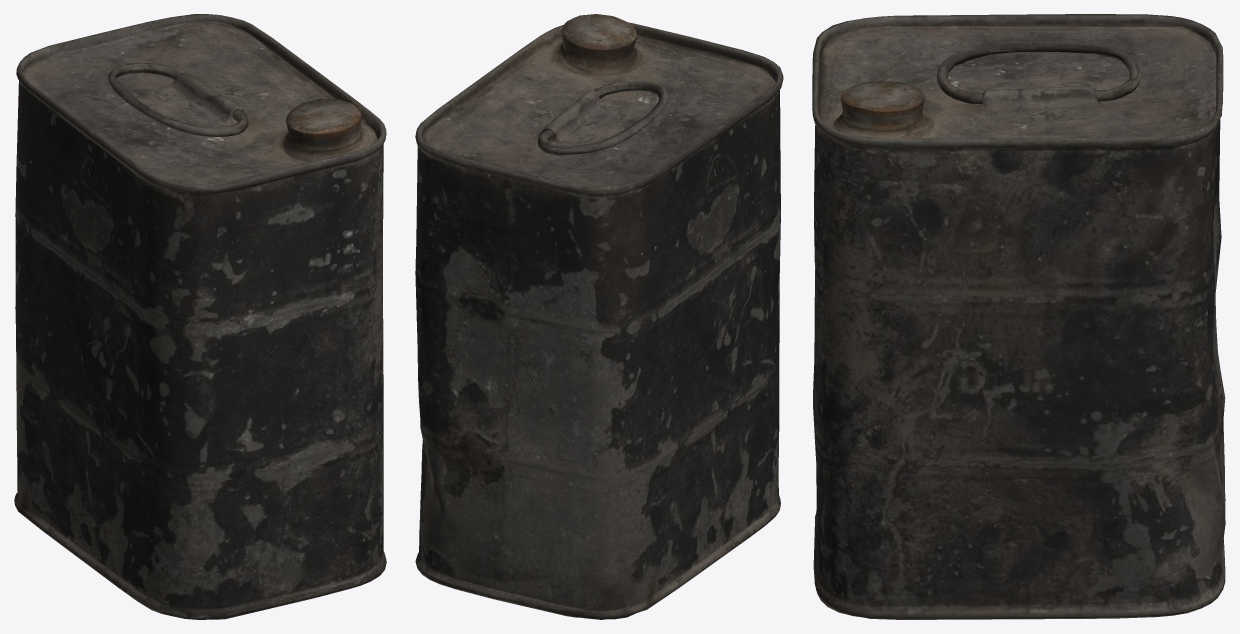
Rendered from oil_tin.glb.
The picture shows the model from 3 angles, left to right: view 1: azimuth 30°, elevation 25°; view 2: azimuth 150°, elevation 25°; view 3: azimuth 270°, elevation 25°; orthographic projection. The views are drawn at different scales.
Parts seen in each view (by area): view 1: oil_tin, oil_tin_handle; view 2: oil_tin, oil_tin_handle; view 3: oil_tin, oil_tin_handle.
Part boxes in pixels (x1,y1,x2,y2): oil_tin: (14, 14, 386, 619); oil_tin_handle: (108, 62, 248, 137); oil_tin: (415, 14, 783, 619); oil_tin_handle: (537, 81, 668, 155); oil_tin: (812, 14, 1225, 619); oil_tin_handle: (936, 43, 1141, 103).
Size of the model in its own units: 0.1147 by 0.2054 by 0.1536.
1 material, 1 textured.
